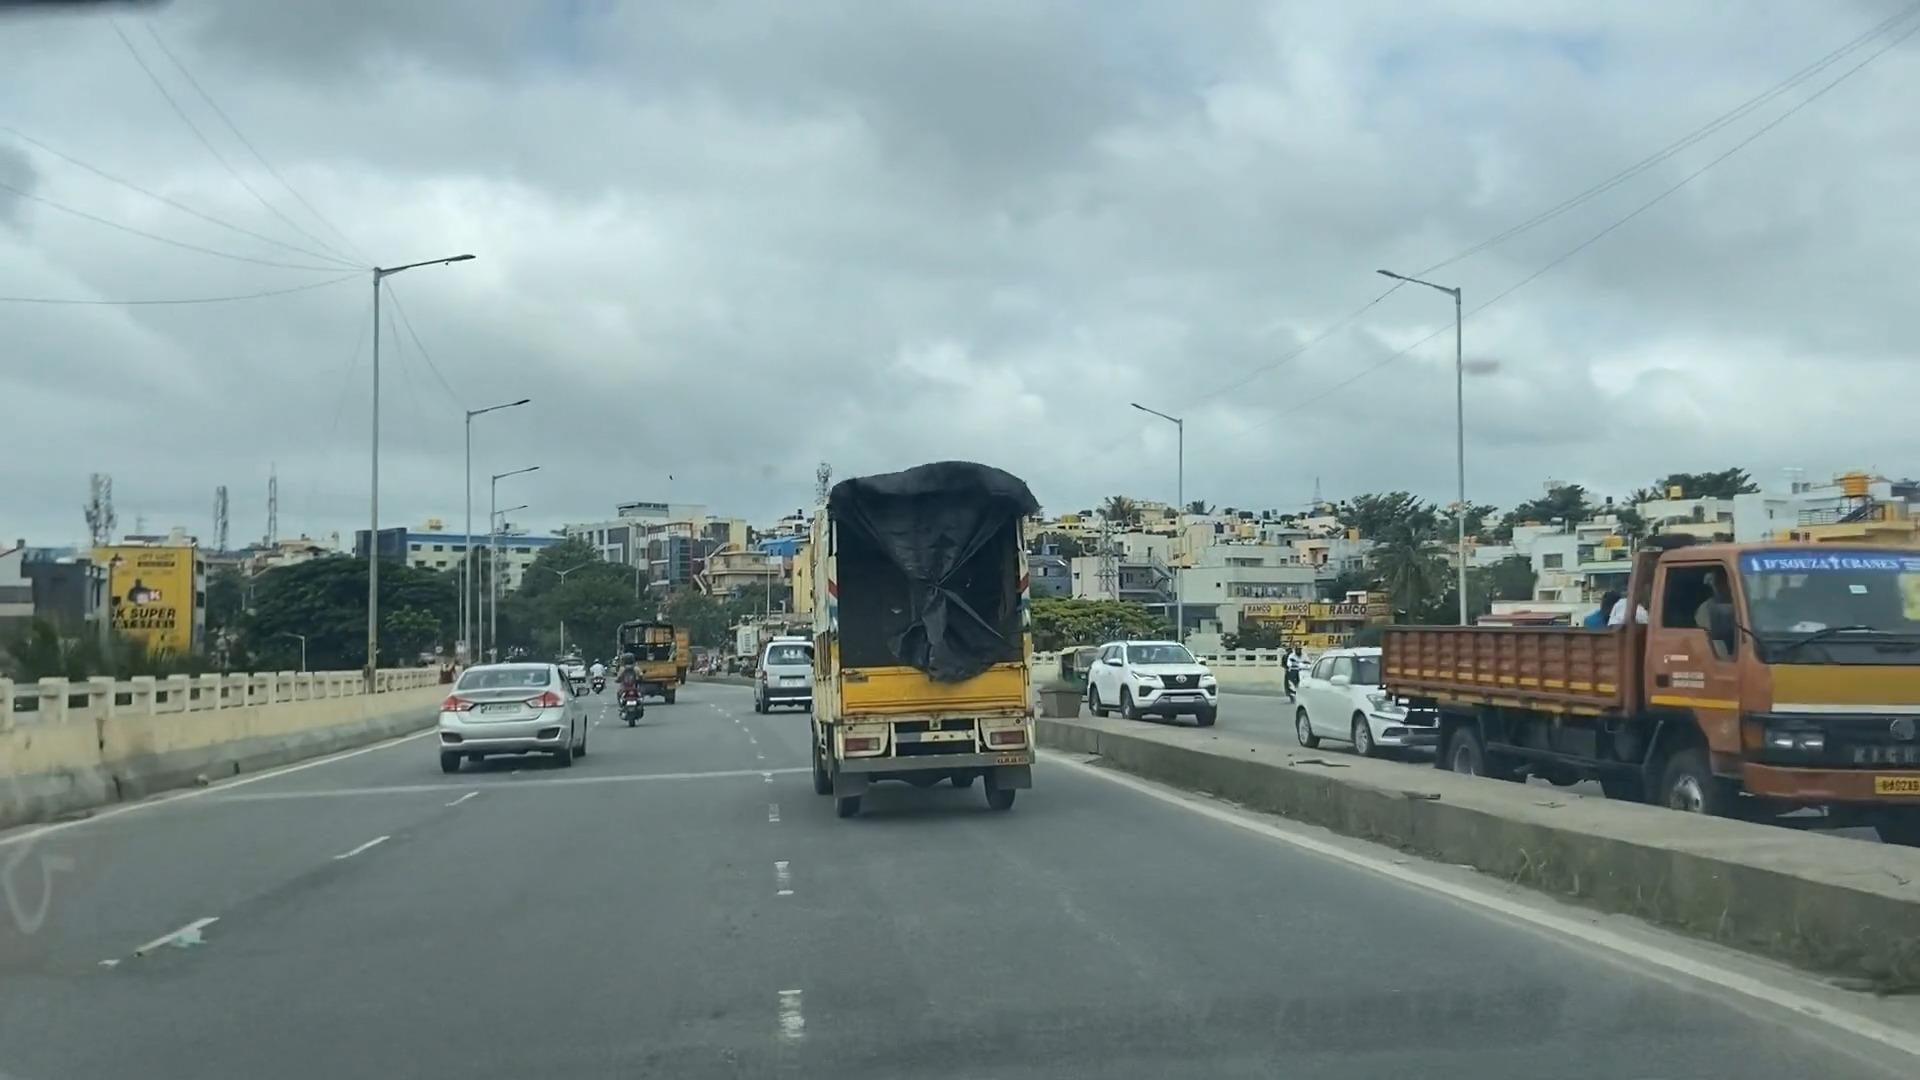HMV: (1370, 473, 1920, 836), (815, 459, 1058, 814)
